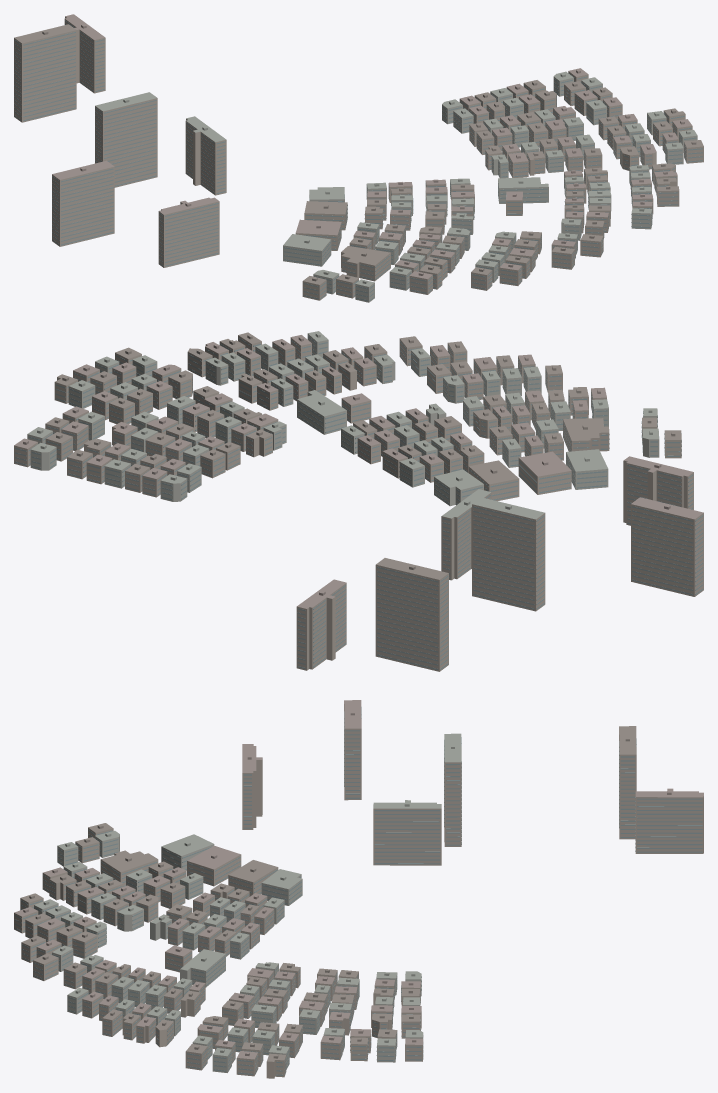
3 renders of one model, top to bottom at view 1: azimuth 30°, elevation 25°; view 2: azimuth 150°, elevation 25°; view 3: azimuth 270°, elevation 25°, orthographic. The views are drawn at different scales.
Visible parts, largest first — view 1: context-walls-apartment__context-wall-apartment, context-window-bands__context-glass, context-walls-villa__context-wall-villa, context-walls-lowrise__context-wall-lowrise, context-roofs__context-roof-0, context-roofs__context-roof-1, context-roofs__context-roof-2, context-rooftop__context-roof-0, context-rooftop__context-roof-1, context-rooftop__context-roof-2; view 2: context-window-bands__context-glass, context-walls-villa__context-wall-villa, context-walls-apartment__context-wall-apartment, context-walls-lowrise__context-wall-lowrise, context-roofs__context-roof-0, context-roofs__context-roof-1, context-roofs__context-roof-2, context-rooftop__context-roof-1, context-rooftop__context-roof-0, context-rooftop__context-roof-2; view 3: context-walls-villa__context-wall-villa, context-window-bands__context-glass, context-walls-apartment__context-wall-apartment, context-walls-lowrise__context-wall-lowrise, context-roofs__context-roof-0, context-roofs__context-roof-1, context-roofs__context-roof-2, context-rooftop__context-roof-1, context-rooftop__context-roof-0, context-rooftop__context-roof-2.
Boxes of the visible parts, x1,y1,x2,y2 form: context-walls-apartment__context-wall-apartment: (14, 16, 226, 267); context-window-bands__context-glass: (14, 20, 702, 301); context-walls-villa__context-wall-villa: (295, 71, 703, 300); context-walls-lowrise__context-wall-lowrise: (283, 77, 697, 302); context-roofs__context-roof-0: (95, 71, 697, 286); context-roofs__context-roof-1: (14, 24, 703, 284); context-roofs__context-roof-2: (52, 14, 692, 279); context-rooftop__context-roof-0: (123, 73, 690, 283); context-rooftop__context-roof-1: (42, 30, 696, 281); context-rooftop__context-roof-2: (80, 24, 684, 275); context-window-bands__context-glass: (15, 336, 703, 669); context-walls-villa__context-wall-villa: (14, 335, 681, 501); context-walls-apartment__context-wall-apartment: (296, 460, 703, 671); context-walls-lowrise__context-wall-lowrise: (27, 333, 659, 506); context-roofs__context-roof-0: (28, 331, 659, 519); context-roofs__context-roof-1: (46, 332, 681, 579); context-roofs__context-roof-2: (14, 335, 703, 608); context-rooftop__context-roof-1: (54, 334, 675, 569); context-rooftop__context-roof-0: (37, 333, 652, 509); context-rooftop__context-roof-2: (23, 336, 670, 595); context-walls-villa__context-wall-villa: (14, 827, 423, 1078); context-window-bands__context-glass: (14, 707, 702, 1075); context-walls-apartment__context-wall-apartment: (242, 704, 703, 865); context-walls-lowrise__context-wall-lowrise: (34, 835, 423, 1072); context-roofs__context-roof-0: (34, 733, 461, 1056); context-roofs__context-roof-1: (21, 726, 636, 1061); context-roofs__context-roof-2: (14, 700, 703, 1059); context-rooftop__context-roof-1: (29, 737, 629, 1058); context-rooftop__context-roof-0: (43, 745, 454, 1052); context-rooftop__context-roof-2: (23, 711, 671, 1055).
Size of the model in its own units: 452 by 65.14 by 429.
